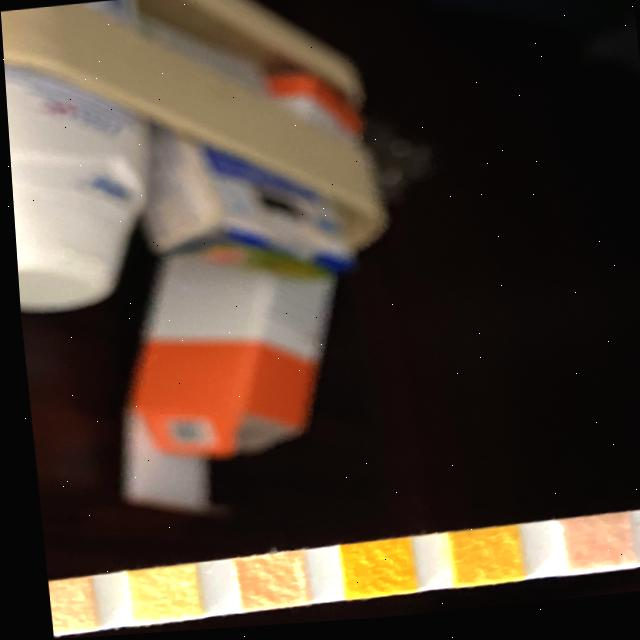Blood: (335, 543, 406, 603)
Ketone: (550, 520, 626, 580)
Protein: (118, 565, 191, 626)
SpGravity: (438, 532, 511, 591)
Urobilinogen: (39, 578, 86, 634)
pH: (225, 555, 295, 613)
